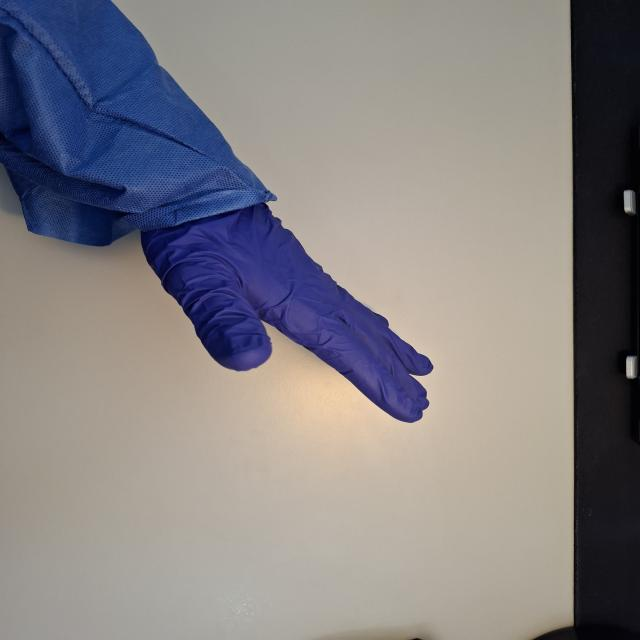glove_on: (134, 192, 438, 425)
